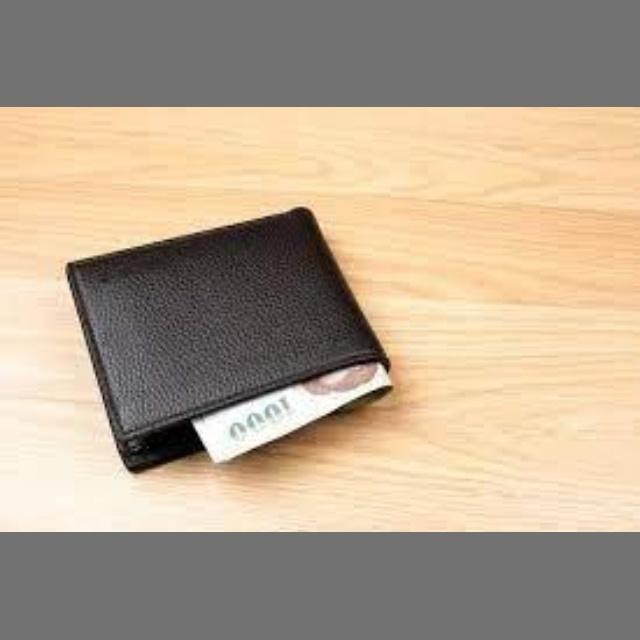Wallet: (36, 210, 468, 448)
